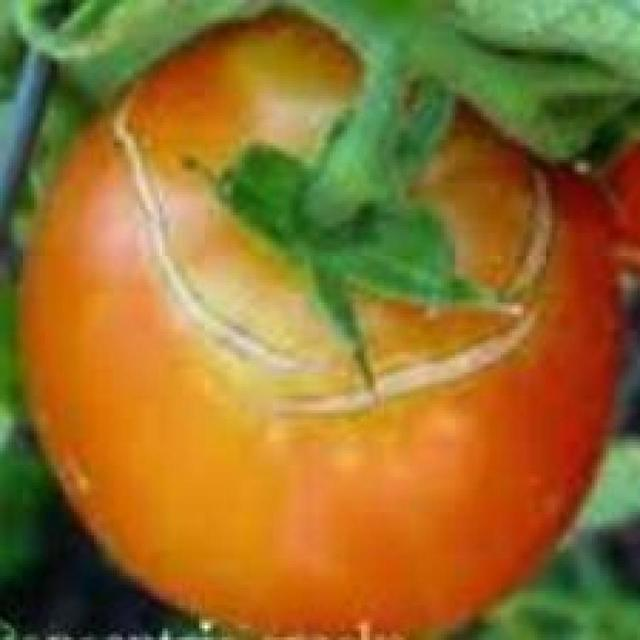Cracking Fruit: (75, 72, 346, 236)
